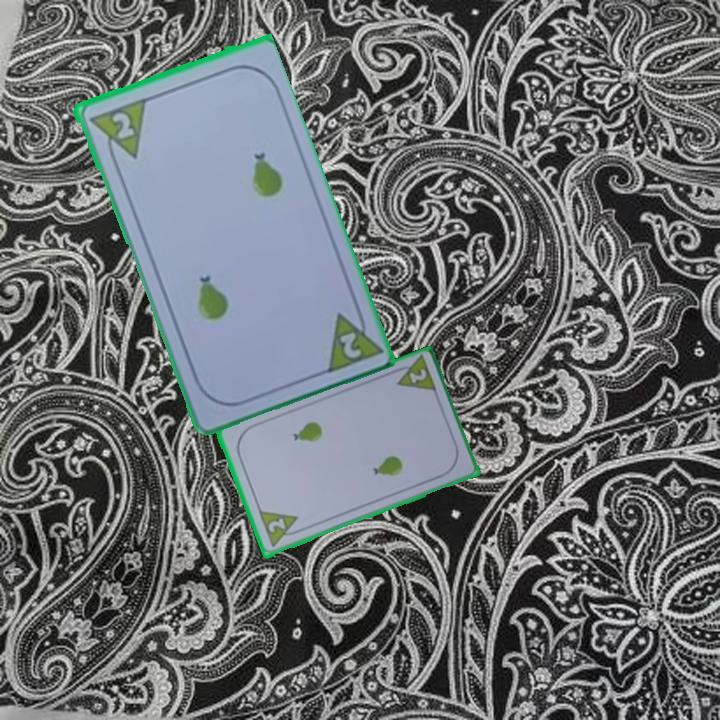2p: (320, 301, 383, 377), (84, 94, 148, 168), (388, 353, 439, 396), (255, 508, 305, 551)
